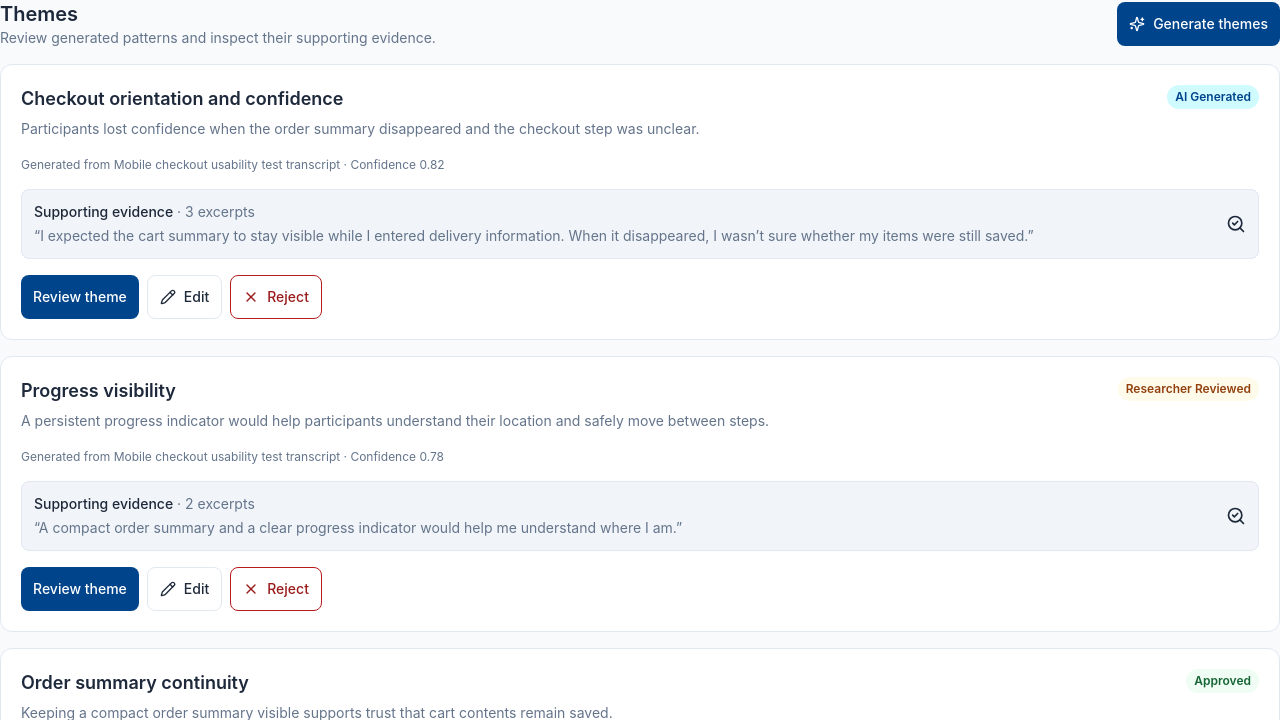
SessionThemesWorkspaceView editing › edits only the Theme name and summary without exposing review decisions
Click the button "Edit" below "0.82" at [184, 297], box [147,275,222,319]
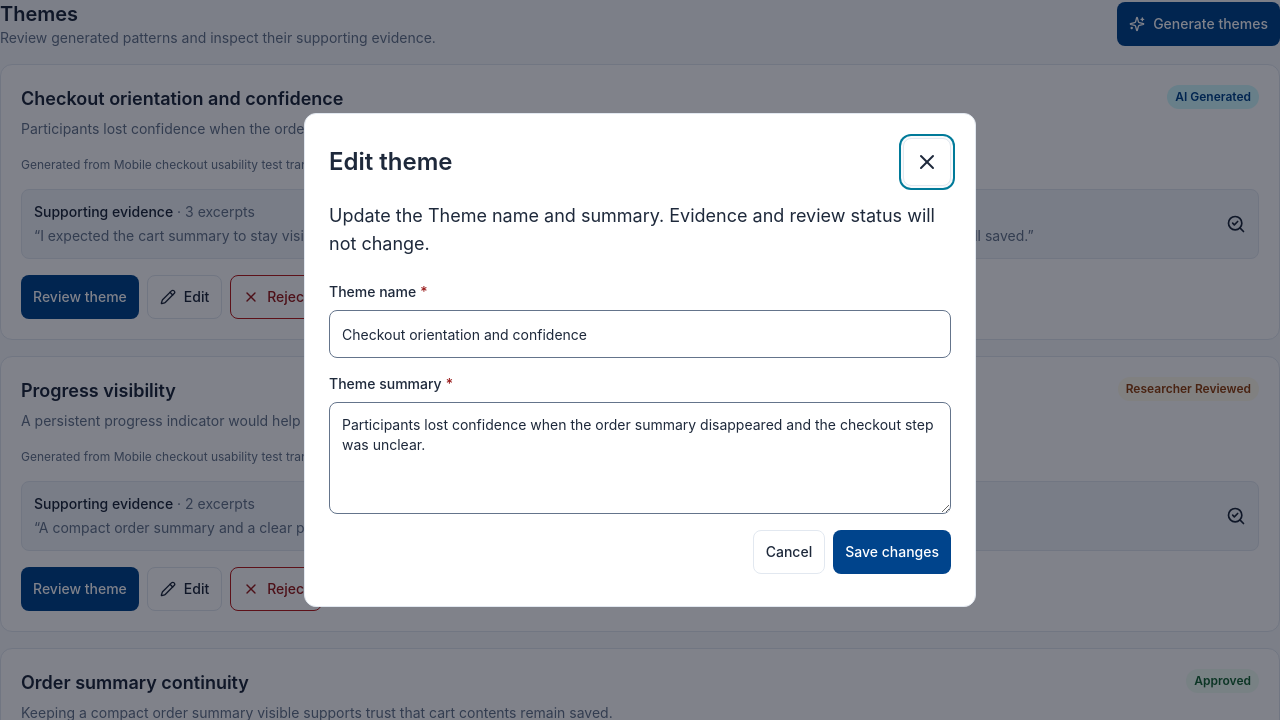
Replace the text in the field labelled "Theme name*" with "Clearer checkout orientation" at [640, 334], box [330,311,950,357]
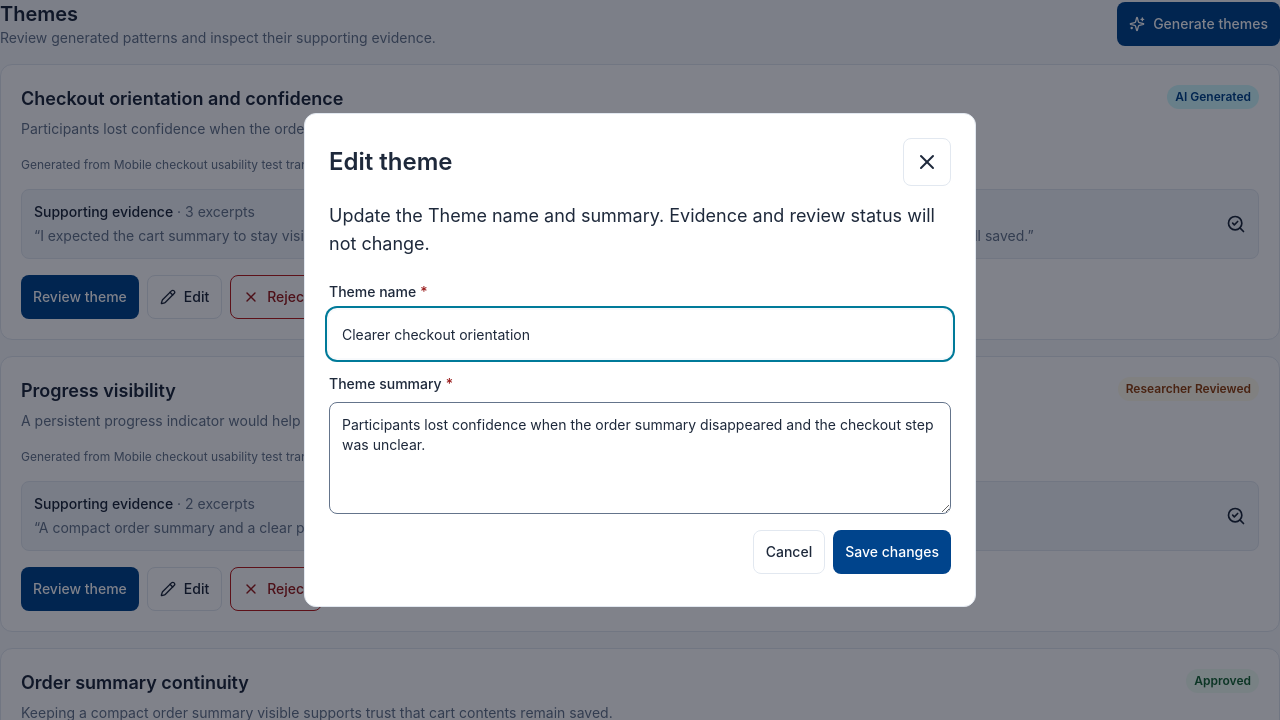
Replace the text in the text box labelled "Theme summary*" with "Participants need persistent context while moving through checkout." at [640, 458], box [329,402,951,514]
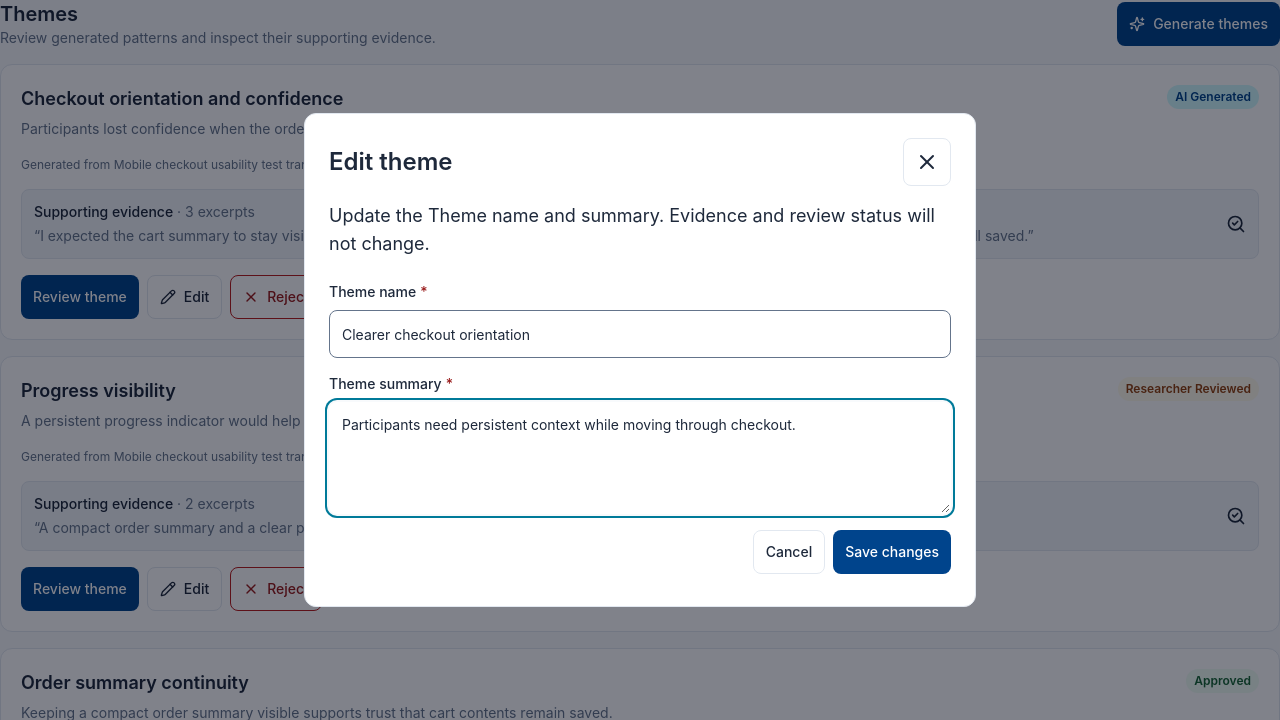
Click the button "Save changes" at [892, 552], box [833,530,951,574]
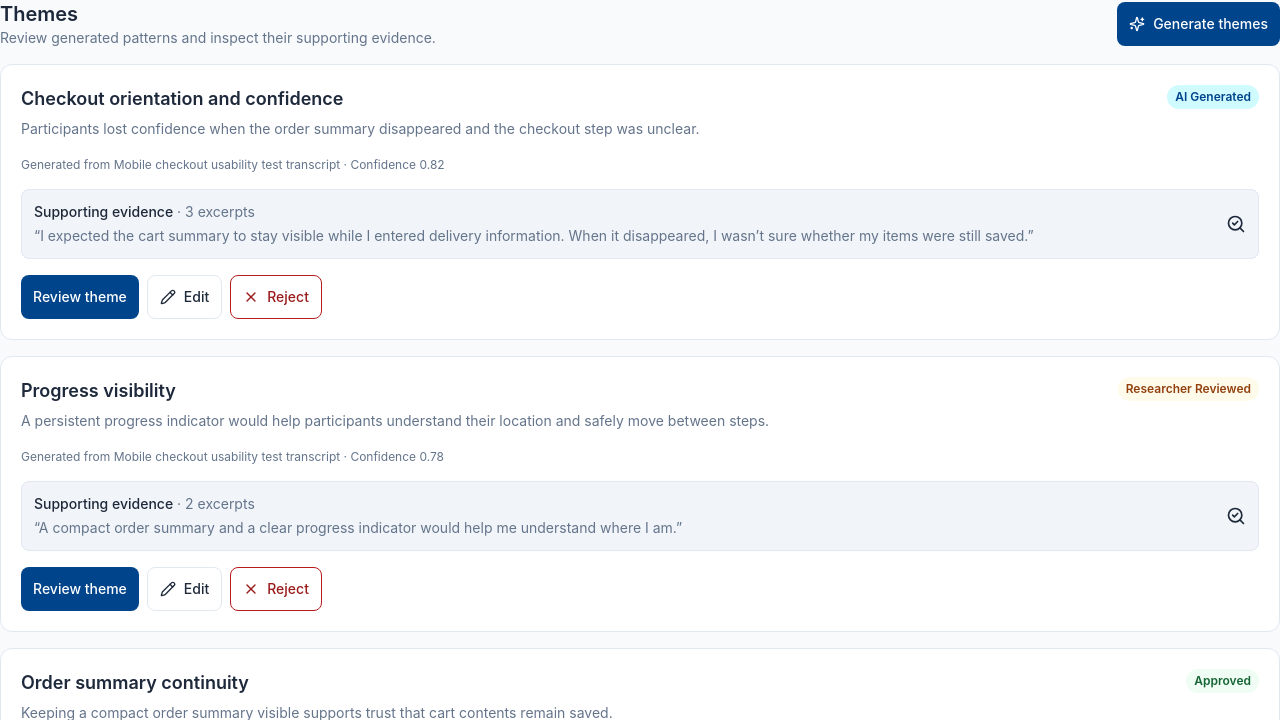
Expected: the text "AI Generated" is shown, [1167,85,1259,109]
Now the heading "Edit theme" is gone
